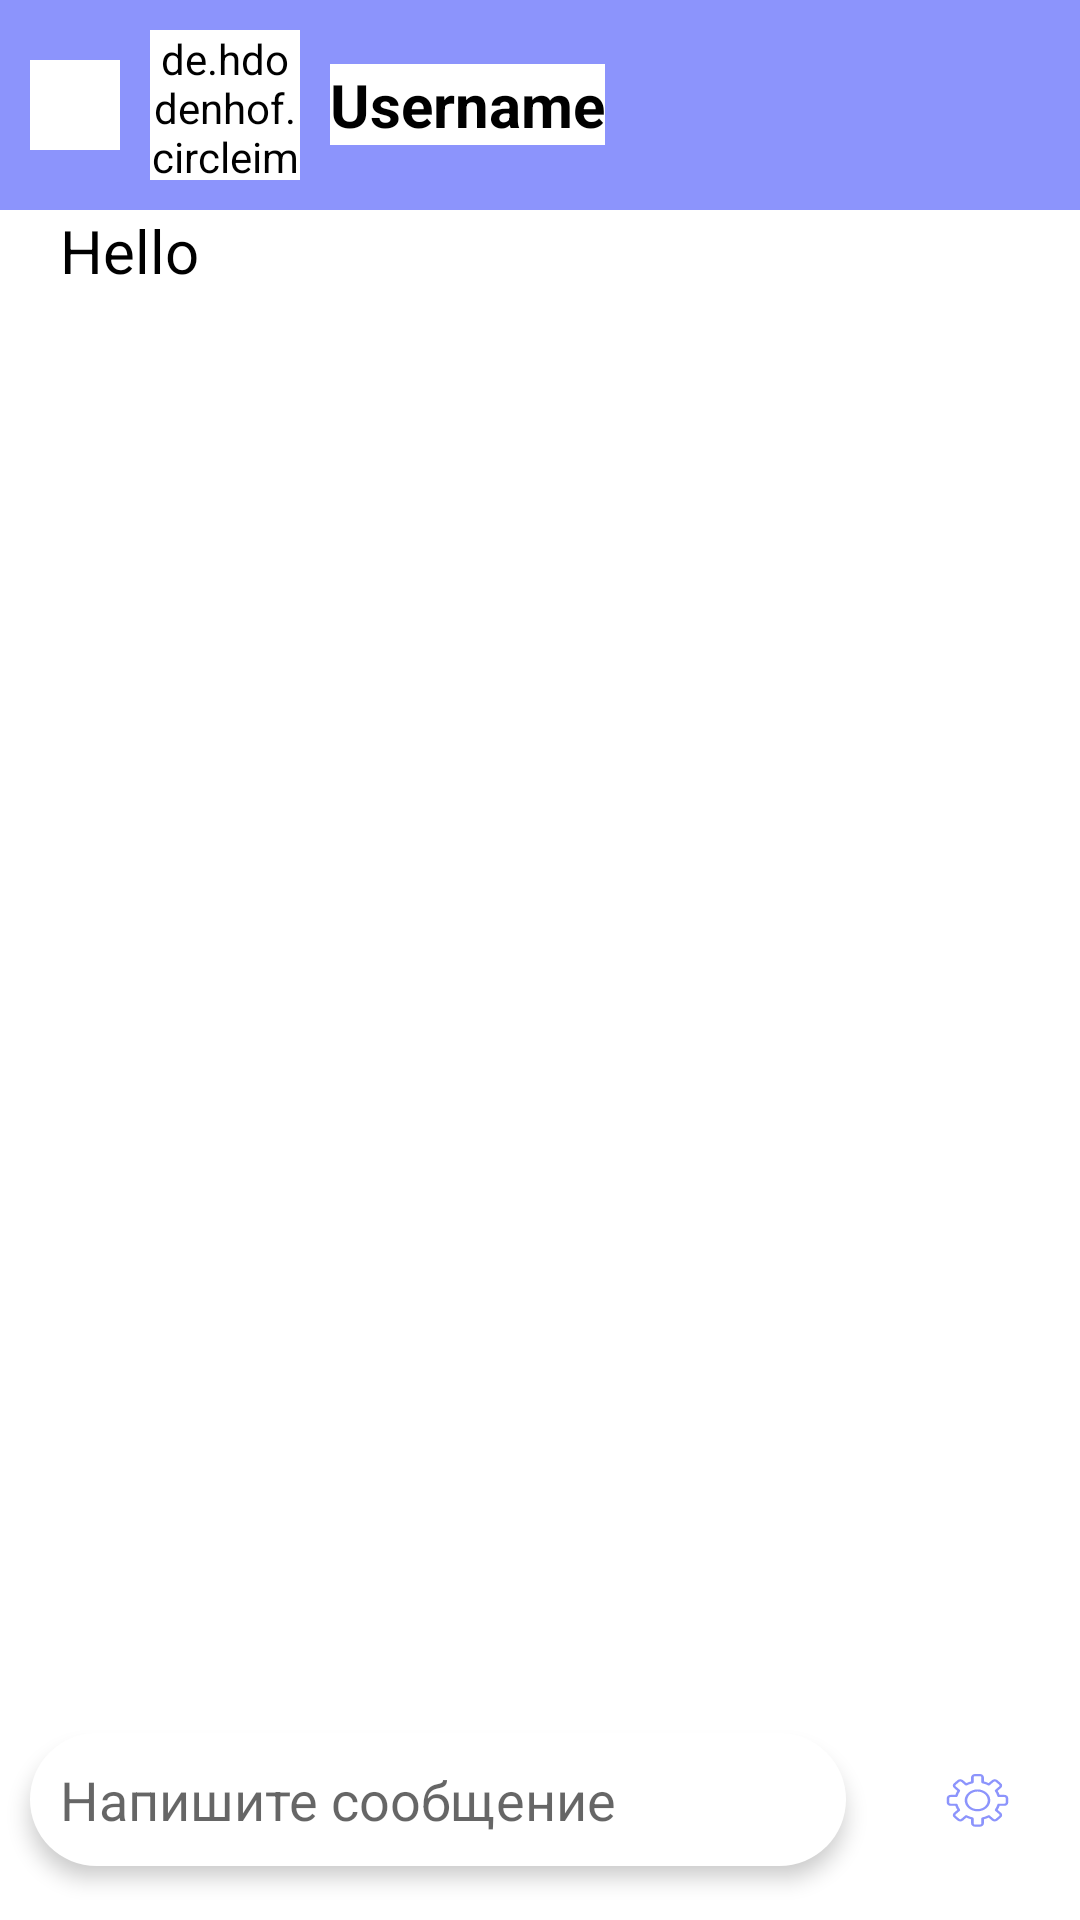

Icons on this 1080×1920 Android screen, each with its box as (x1, y1, x2, y2):
settings: (946, 1774, 1009, 1827)
